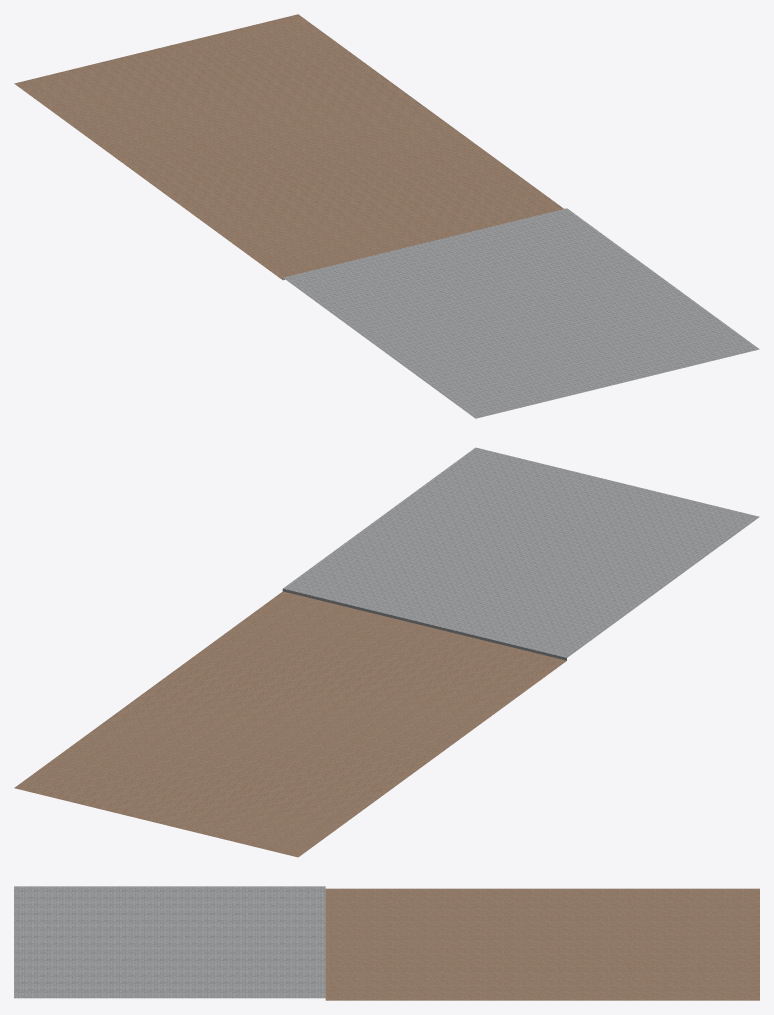
Rendered from OutsideFloor.FBX.
3 views of the same model, one above another, from view 1: azimuth 30°, elevation 25°; view 2: azimuth 150°, elevation 25°; view 3: azimuth 270°, elevation 25° (orthographic). The views are drawn at different scales.
Visible parts, largest first — view 1: Plane003; view 2: Plane003; view 3: Plane003.
Part boxes in pixels (<box>): Plane003: <box>14,14,759,418</box>; Plane003: <box>14,447,759,857</box>; Plane003: <box>14,886,759,1000</box>.
Size of the model in its own units: 1219 by 11.25 by 3429.
2 materials, 2 textured.
